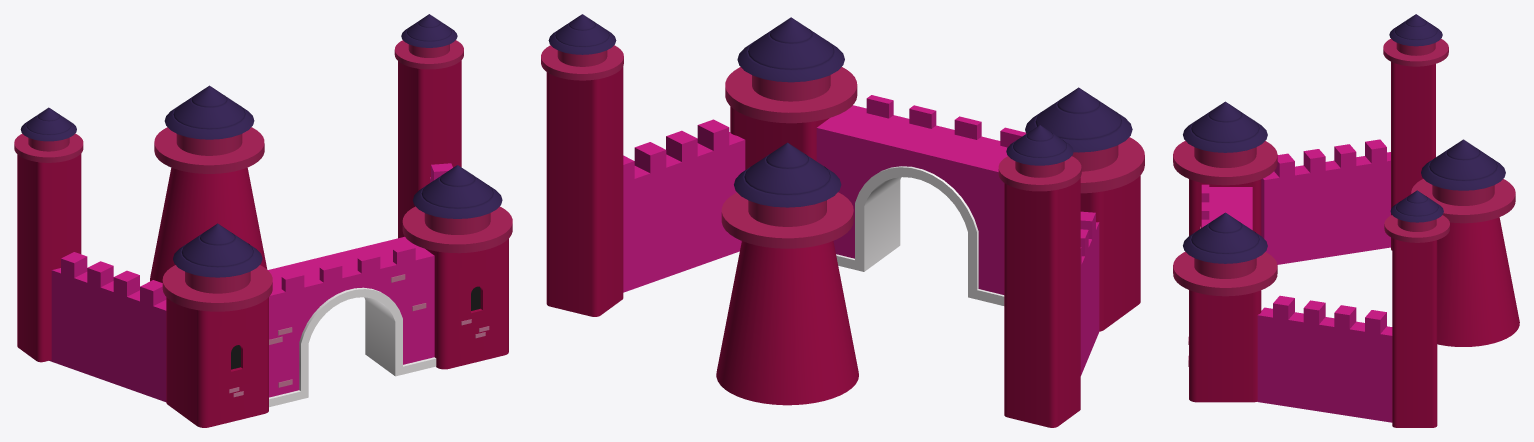
File: kale.fbx
3 views of the same model, side by side, from view 1: azimuth 30°, elevation 25°; view 2: azimuth 150°, elevation 25°; view 3: azimuth 270°, elevation 25° (orthographic). The views are drawn at different scales.
Visible parts, largest first — view 1: Box006, Line006, ChamferBox001, ChamferBox002, ChamferBox005, ChamferBox004, Cylinder007, Line003, Cylinder008, Cylinder006, Cylinder005, Cone001 (+6 smaller); view 2: Cylinder007, ChamferBox004, ChamferBox002, Line006, Box007, Line003, ChamferBox001, Cylinder008, Cylinder006, Cone003, Cone002, Cone001 (+7 smaller); view 3: Box007, Box006, Cylinder007, ChamferBox004, ChamferBox005, ChamferBox002, Cylinder005, Cylinder006, Cone002, Cone001, Cone003, Cylinder008 (+6 smaller).
Part boxes in pixels (box(x1,y1,x2,y2)): Box006: box(49, 252, 166, 401); Line006: box(268, 236, 434, 397); ChamferBox001: box(166, 297, 268, 427); ChamferBox002: box(17, 154, 81, 362); ChamferBox005: box(425, 239, 508, 369); ChamferBox004: box(398, 60, 461, 238); Cylinder007: box(150, 167, 267, 282); Line003: box(269, 287, 436, 407); Cylinder008: box(154, 127, 264, 173); Cylinder006: box(402, 206, 512, 253); Cylinder005: box(162, 265, 272, 311); Cone001: box(173, 223, 262, 277); Cylinder007: box(716, 241, 858, 405); ChamferBox004: box(546, 66, 623, 316); ChamferBox002: box(1004, 178, 1080, 427); Line006: box(816, 95, 1026, 294); Box007: box(623, 119, 745, 292); Line003: box(836, 166, 1004, 305); ChamferBox001: box(1080, 175, 1140, 331); Cylinder008: box(721, 192, 853, 248); Cylinder006: box(725, 67, 857, 123); Cone003: box(734, 142, 841, 207); Cone002: box(737, 17, 844, 82); Cone001: box(1025, 87, 1132, 152); Box007: box(1257, 295, 1392, 422); Box006: box(1261, 139, 1390, 264); Cylinder007: box(1437, 217, 1519, 346); ChamferBox004: box(1392, 238, 1437, 427); ChamferBox005: box(1188, 290, 1261, 402); ChamferBox002: box(1391, 62, 1435, 250); Cylinder005: box(1173, 141, 1277, 185); Cylinder006: box(1173, 251, 1277, 296); Cone002: box(1183, 212, 1267, 263); Cone001: box(1183, 101, 1267, 152); Cone003: box(1421, 139, 1505, 190); Cylinder008: box(1411, 179, 1515, 223).
Bounding box in the file's own units: 463 × 243 × 333.
